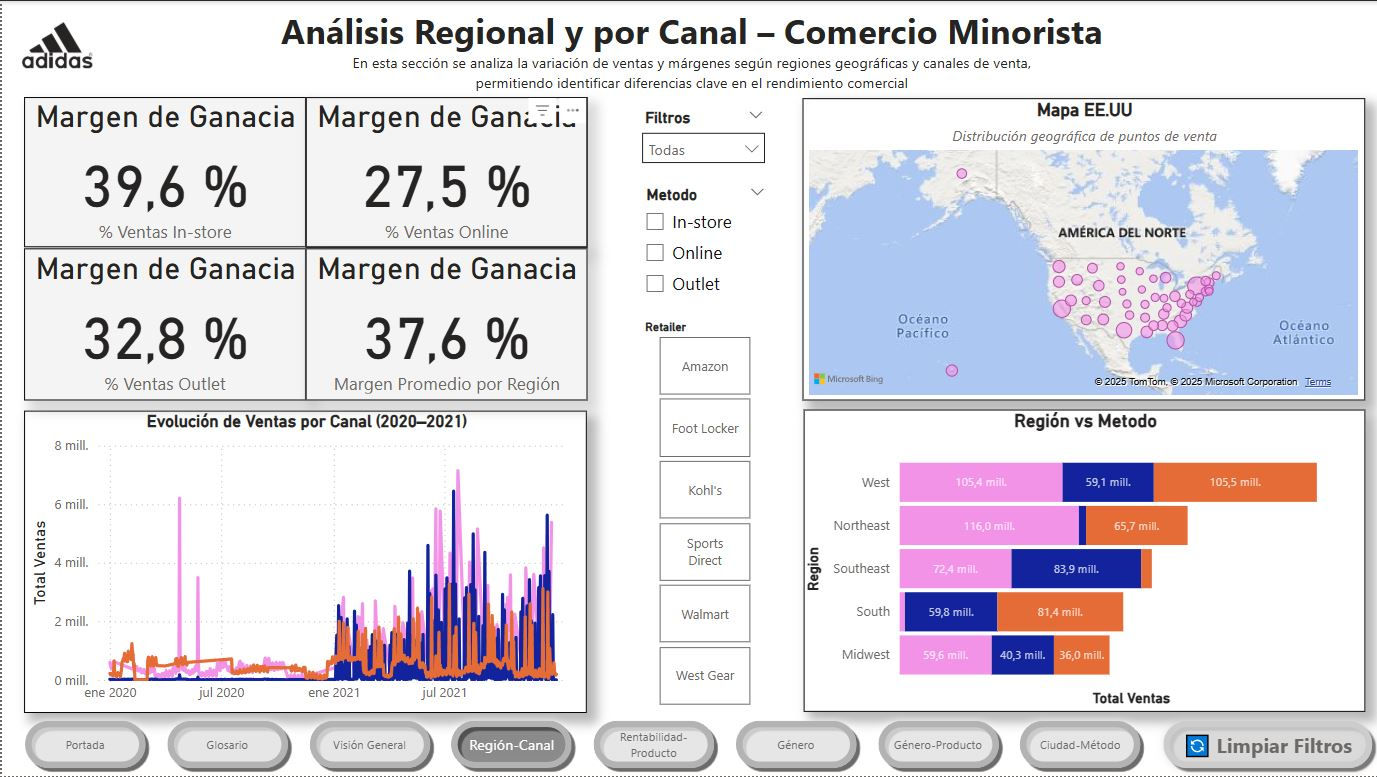

The dashboard page shown, as its layout file describes it:
{"tool":"powerbi","page":{"name":"Región-Canal","canvas":[1280,720],"ordinal":3},"visuals":[{"type":"textbox","box":[191.1,0,899.8,89.7],"z":0},{"type":"map","title":"Mapa EE.UU","fields":{"Category":["Estado.Estado"],"Size":["Medidas.Total Ventas"]},"box":[743.3,90,522.2,281.1],"z":1000},{"type":"barChart","title":"Región vs Metodo","fields":{"Category":["Region.Region"],"Y":["Medidas.Total Ventas"],"Series":["Metodo de Venta.Metodo de Venta"]},"box":[743.9,378.9,521.9,280.7],"z":2000},{"type":"lineChart","title":"Evolución de Ventas por Canal (2020–2021)","fields":{"Category":["Calendario.Date.Variación.Jerarquía de fechas.Año","Calendario.Date.Variación.Jerarquía de fechas.Trimestre","Calendario.Date.Variación.Jerarquía de fechas.Mes","Calendario.Date.Variación.Jerarquía de fechas.Día"],"Y":["Medidas.Total Ventas"],"Series":["Metodo de Venta.Metodo de Venta"]},"box":[20.3,380,523,280.7],"z":3000},{"type":"slicer","fields":{"Values":["Metodo de Venta.Metodo de Venta"]},"box":[585.9,166.2,134.9,125.2],"z":4000},{"type":"slicer","fields":{"Values":["Retailer.Retailer"]},"box":[584.8,291.3,134.9,369],"z":5000},{"type":"slicer","fields":{"Values":["Calendario.Año_Mes"]},"box":[584.9,93.9,134.5,66.2],"z":6000},{"type":"actionButton","box":[1070,660,210,60],"z":7000},{"type":"card","title":"Margen de Ganacia ","fields":{"Values":["Medidas.% Ventas In-store"]},"box":[20.3,89.7,261.5,139.8],"z":8000},{"type":"card","title":"Margen de Ganacia ","fields":{"Values":["Medidas.% Ventas Online"]},"box":[281.8,89.7,261.5,139.8],"z":9000},{"type":"card","title":"Margen de Ganacia ","fields":{"Values":["Medidas.% Ventas Outlet"]},"box":[20.3,229.5,261.5,140.9],"z":10000},{"type":"card","title":"Margen de Ganacia ","fields":{"Values":["Medidas.Margen Promedio por Región"]},"box":[281.8,229.5,261.5,140.9],"z":11000},{"type":"image","box":[13.3,7.2,75.9,68.7],"z":12000},{"type":"pageNavigator","box":[13.8,660,1056.2,60],"z":13000}]}

Visuals, with their boxes in screenshot pixels (x1, y1, x2, y2), scaled from the page's 1280x720 canvas onto the 1377x777 screenshot:
textbox: x1=206 y1=0 x2=1174 y2=97
"Mapa EE.UU" map: x1=800 y1=97 x2=1361 y2=400
"Región vs Metodo" barChart: x1=800 y1=409 x2=1362 y2=712
"Evolución de Ventas por Canal (2020–2021)" lineChart: x1=22 y1=410 x2=584 y2=713
slicer - Metodo de Venta.Metodo de Venta: x1=630 y1=179 x2=775 y2=314
slicer - Retailer.Retailer: x1=629 y1=314 x2=774 y2=713
slicer - Calendario.Año_Mes: x1=629 y1=101 x2=774 y2=173
actionButton: x1=1151 y1=712 x2=1376 y2=776
"Margen de Ganacia " card: x1=22 y1=97 x2=303 y2=248
"Margen de Ganacia " card: x1=303 y1=97 x2=584 y2=248
"Margen de Ganacia " card: x1=22 y1=248 x2=303 y2=400
"Margen de Ganacia " card: x1=303 y1=248 x2=584 y2=400
image: x1=14 y1=8 x2=96 y2=82
pageNavigator: x1=15 y1=712 x2=1151 y2=776
